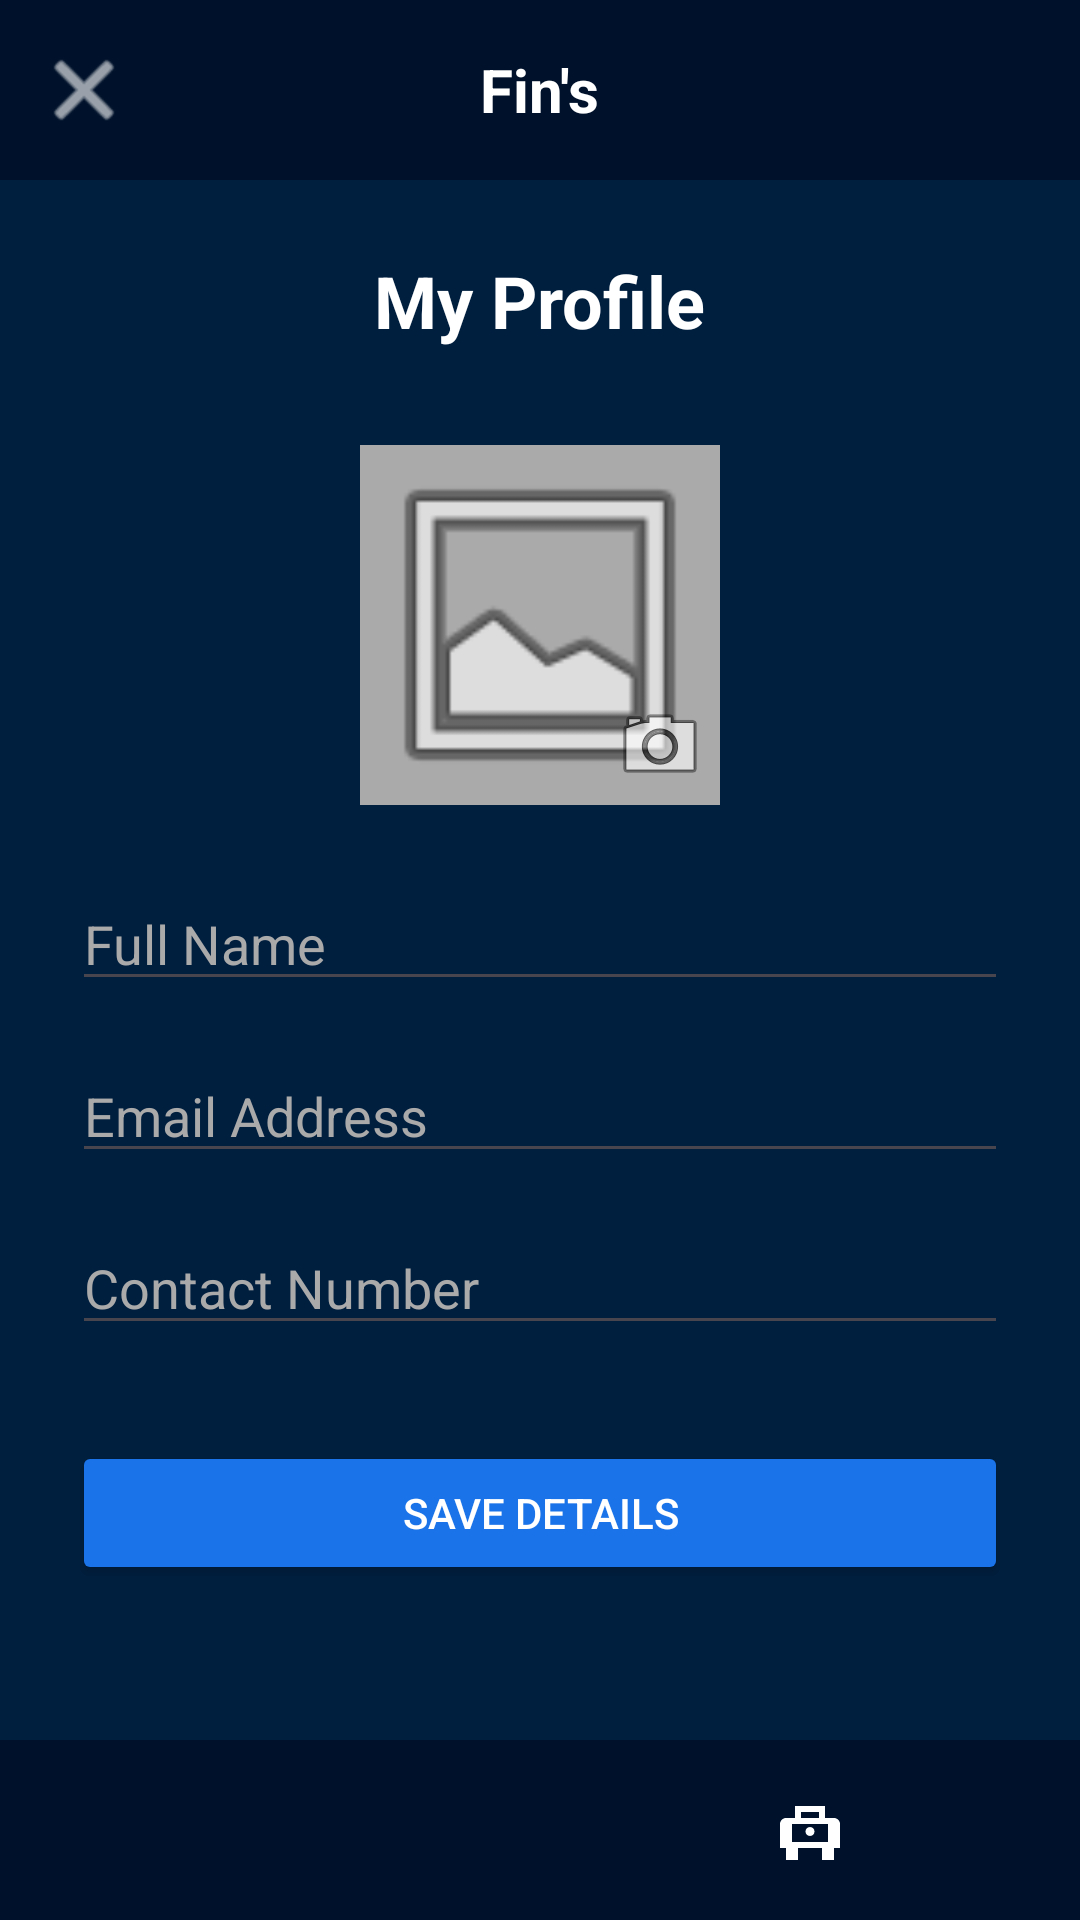

Named icons in this screenshot (1080w x 1920h) and their centers, (x=x, y=y):
Close: (x=84, y=90)
